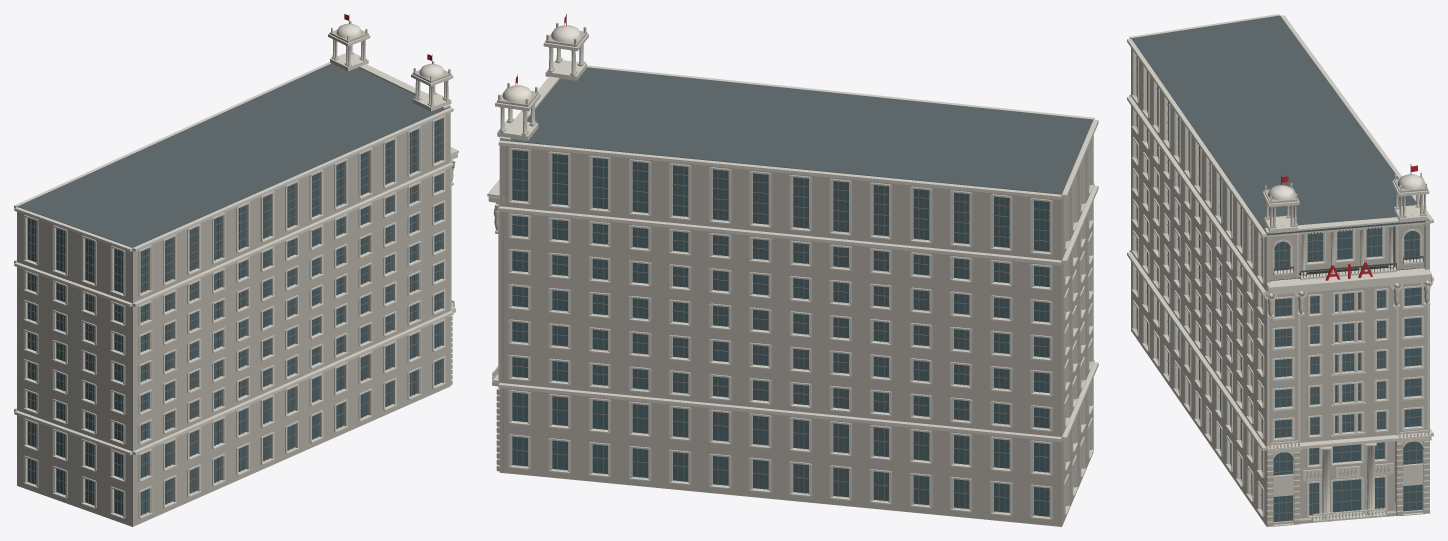
File: bund17.glb
3 renders of one model, left to right at view 1: azimuth 30°, elevation 25°; view 2: azimuth 150°, elevation 25°; view 3: azimuth 270°, elevation 25°, orthographic. The views are drawn at different scales.
Size of the model in its own units: 55.87 by 40 by 32.21.
